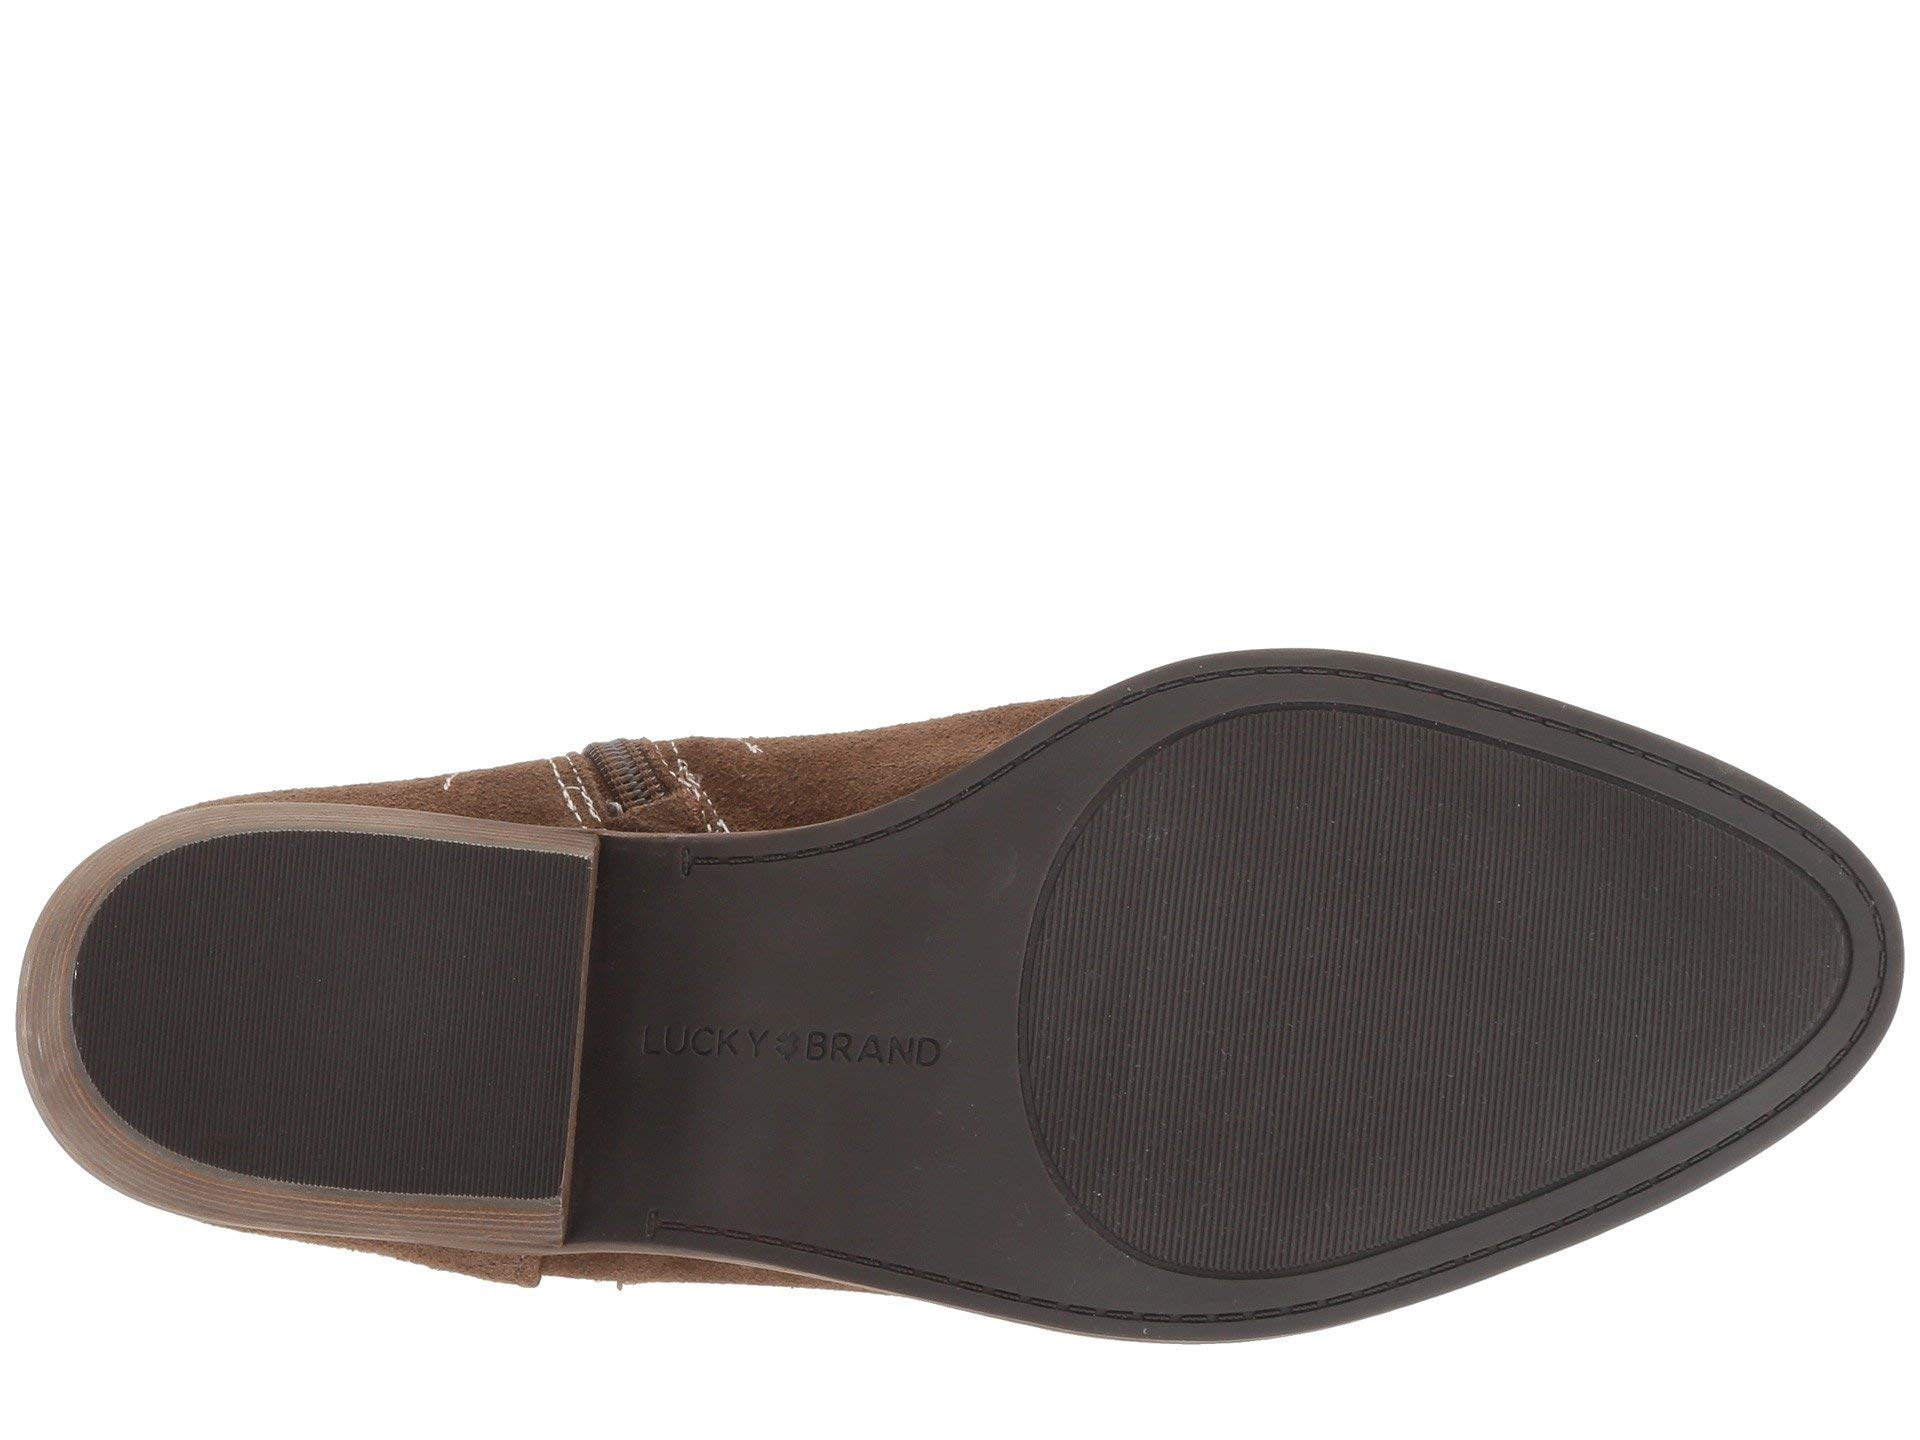line: (1228, 812, 1562, 1136)
